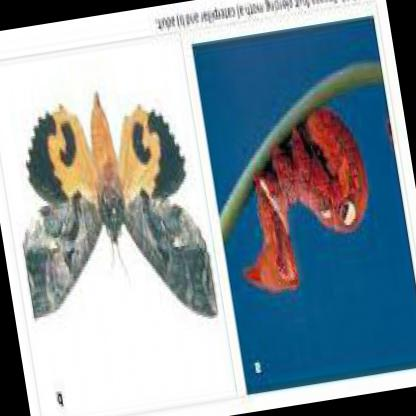fruit sucking moth: (22, 94, 217, 316)
